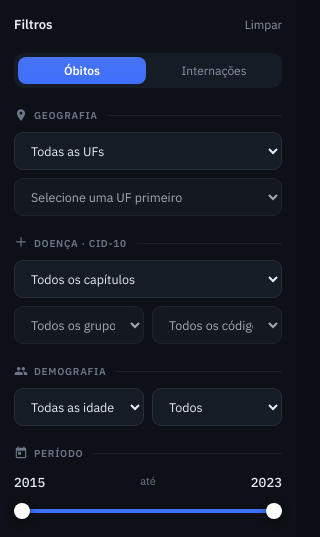
Test: FilterPanel CID-10 cascade › selecting chapter IX enables Grupo select with that chapters groups
Select "IX — Doenças do aparelho circulatório" in the dropdown named "Capítulo CID-10". click: (148, 279)
box: [14, 260, 282, 298]
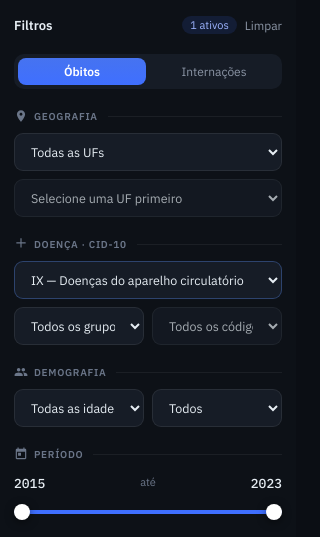
expect the dropdown named "Grupo CID-10" is enabled: met, box [14, 307, 144, 345]
